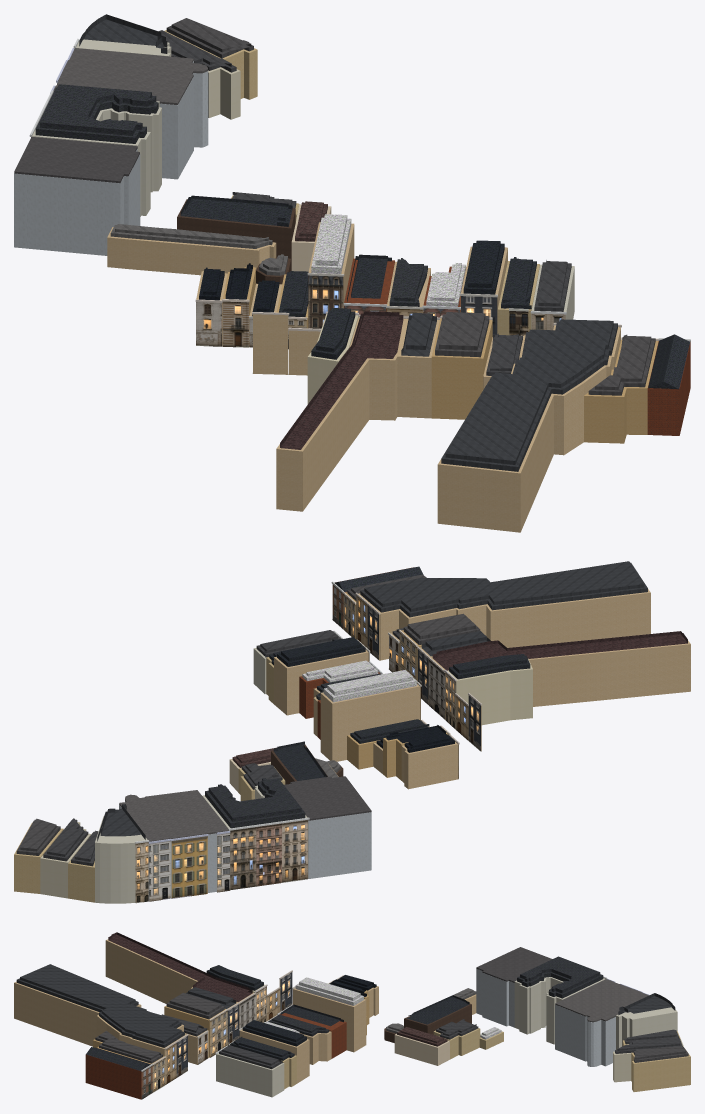
The picture shows the model from 3 angles, top to bottom: view 1: azimuth 30°, elevation 25°; view 2: azimuth 150°, elevation 25°; view 3: azimuth 270°, elevation 25°; orthographic projection. The views are drawn at different scales.
Visible parts, largest first — view 1: bldg_776278520_roof_b, bldg_776278520, bldg_502132532, bldg_501331465, bldg_502132530_roof, bldg_790167793, bldg_502132532_roof, bldg_502132531_roof_b, bldg_502132530, bldg_501331468, bldg_501331470, bldg_501331465_roof_b (+40 smaller); view 2: bldg_776278520, bldg_501331465, bldg_776278520_roof_b, bldg_502132531_facade0, bldg_501328297, bldg_502132532, bldg_502132530_roof, bldg_501331464, bldg_502132529, bldg_501331465_roof_b, bldg_502132532_roof, bldg_502132530_facade1 (+39 smaller); view 3: bldg_776278520_roof_b, bldg_776278520, bldg_501331465, bldg_502132530, bldg_502132531, bldg_502132530_roof, bldg_501328303, bldg_501328297, bldg_502132526, bldg_502132532, bldg_501331472, bldg_502132529 (+49 smaller).
Part boxes in pixels (x1,y1,x2,y2): bldg_776278520_roof_b: [445, 319, 613, 464]; bldg_776278520: [437, 325, 620, 532]; bldg_502132532: [14, 149, 140, 255]; bldg_501331465: [276, 317, 406, 511]; bldg_502132530_roof: [53, 48, 207, 104]; bldg_790167793: [107, 227, 276, 275]; bldg_502132532_roof: [14, 137, 139, 183]; bldg_502132531_roof_b: [40, 84, 154, 135]; bldg_502132530: [159, 61, 208, 179]; bldg_501331468: [431, 318, 492, 419]; bldg_501331470: [584, 340, 658, 443]; bldg_501331465_roof_b: [284, 311, 399, 442]; bldg_776278520: [358, 589, 650, 660]; bldg_501331465: [431, 640, 690, 706]; bldg_776278520_roof_b: [364, 561, 644, 611]; bldg_502132531_facade0: [228, 817, 309, 890]; bldg_501328297: [320, 684, 419, 761]; bldg_502132532: [308, 812, 371, 878]; bldg_502132530_roof: [119, 790, 228, 841]; bldg_501331464: [447, 658, 532, 725]; bldg_502132529: [95, 816, 147, 903]; bldg_501331465_roof_b: [436, 631, 684, 665]; bldg_502132532_roof: [284, 776, 371, 820]; bldg_502132530_facade1: [170, 834, 208, 898]; bldg_776278520_roof_b: [20, 964, 181, 1043]; bldg_776278520: [14, 981, 185, 1056]; bldg_501331465: [105, 939, 253, 1003]; bldg_502132530: [555, 1004, 615, 1066]; bldg_502132531: [514, 977, 605, 1044]; bldg_502132530_roof: [555, 979, 648, 1022]; bldg_501328303: [216, 1053, 284, 1097]; bldg_501328297: [293, 988, 366, 1052]; bldg_502132526: [631, 1049, 690, 1091]; bldg_502132532: [476, 968, 514, 1027]; bldg_501331472: [85, 1054, 141, 1099]; bldg_502132529: [616, 1007, 677, 1049].
Size of the model in its own units: 94.59 by 18.25 by 211.
Materials: 46 (28 with a texture image).
